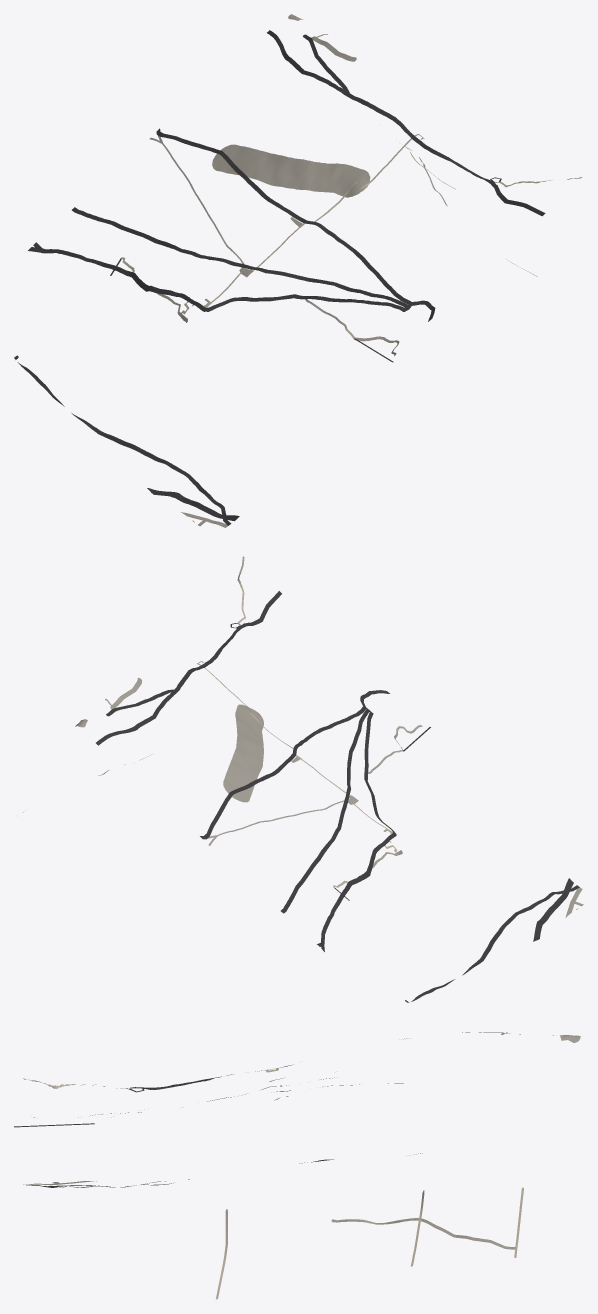
Rendered from roads.glb.
3 renders of one model, top to bottom at view 1: azimuth 30°, elevation 25°; view 2: azimuth 150°, elevation 25°; view 3: azimuth 270°, elevation 25°, orthographic. The views are drawn at different scales.
Visible parts, largest first — view 1: T_E0_N0_roads; view 2: T_E0_N0_roads; view 3: T_E0_N0_roads.
Part boxes in pixels (x1,y1,x2,y2): T_E0_N0_roads: (14,14,582,527); T_E0_N0_roads: (23,556,583,1002); T_E0_N0_roads: (14,1032,580,1299).
Size of the model in its own units: 500 by 329 by 508.
